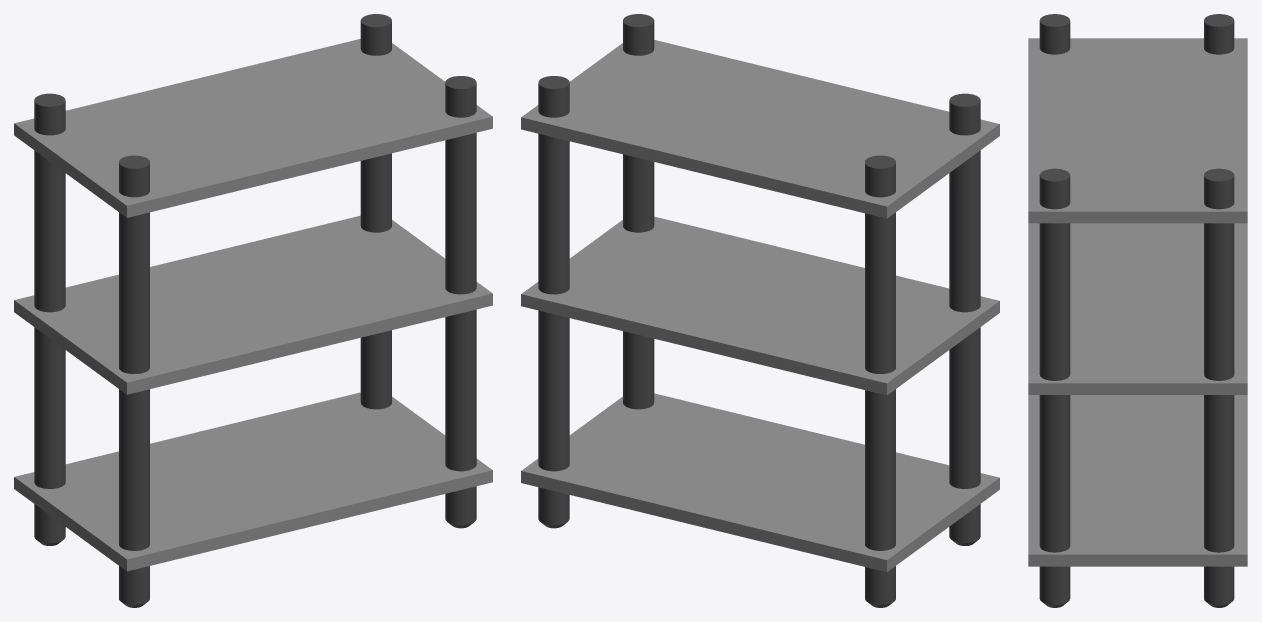
Rendered from closet.fbx.
3 views of the same model, side by side, from view 1: azimuth 30°, elevation 25°; view 2: azimuth 150°, elevation 25°; view 3: azimuth 270°, elevation 25° (orthographic). The views are drawn at different scales.
Parts seen in each view (by area): view 1: closet; view 2: closet; view 3: closet.
Boxes of the visible parts, box(x1,y1,x2,y2) form: closet: box(14, 14, 492, 607); closet: box(521, 14, 999, 607); closet: box(1028, 14, 1247, 607).
Bounding box in the file's own units: 20.82 × 24.03 × 11.12.
1 material, 1 textured.
